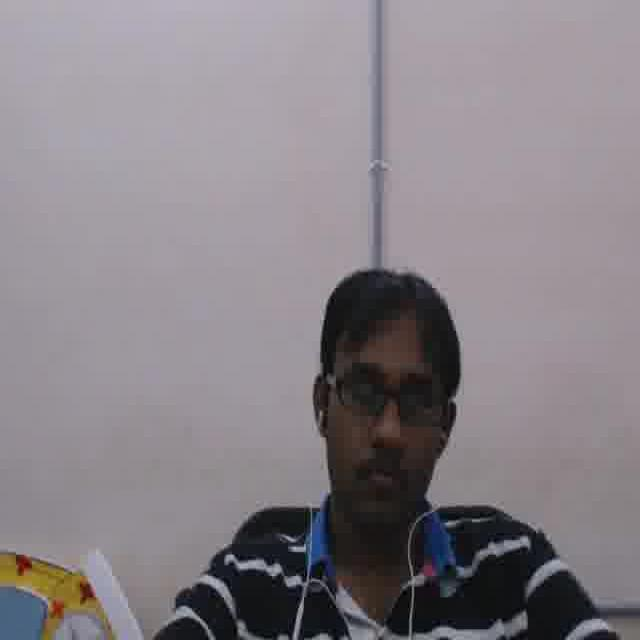Boredom: (324, 320, 440, 521)
